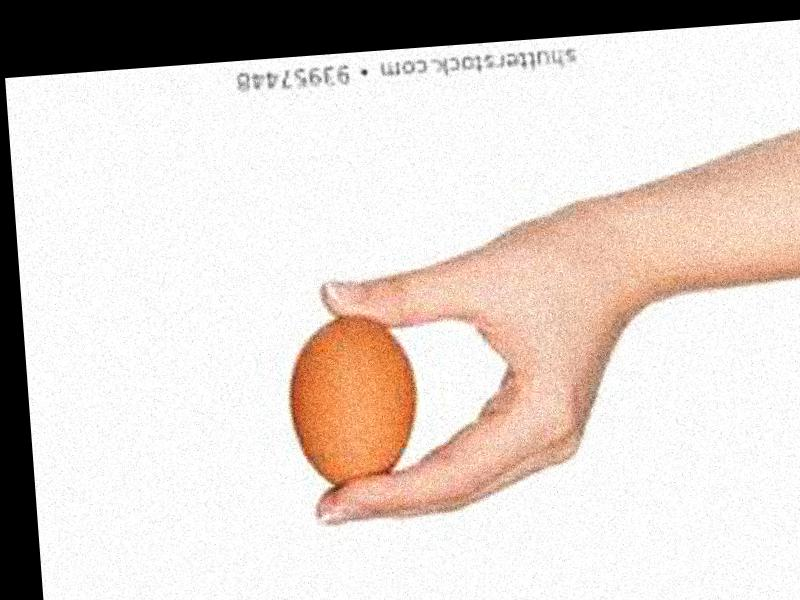Eggs: (284, 310, 420, 499)
